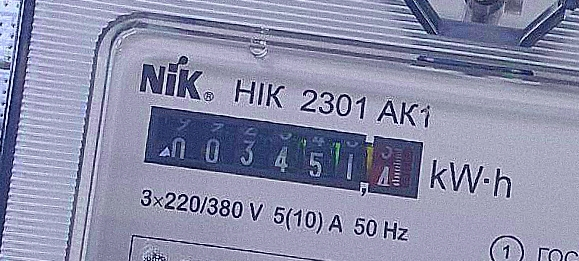0: (166, 132, 188, 160), (201, 135, 222, 164)
1: (340, 149, 358, 181)
3: (235, 135, 257, 167)
4: (269, 142, 292, 175), (371, 161, 393, 190)
5: (305, 147, 324, 179)
screen: (135, 99, 430, 206)
